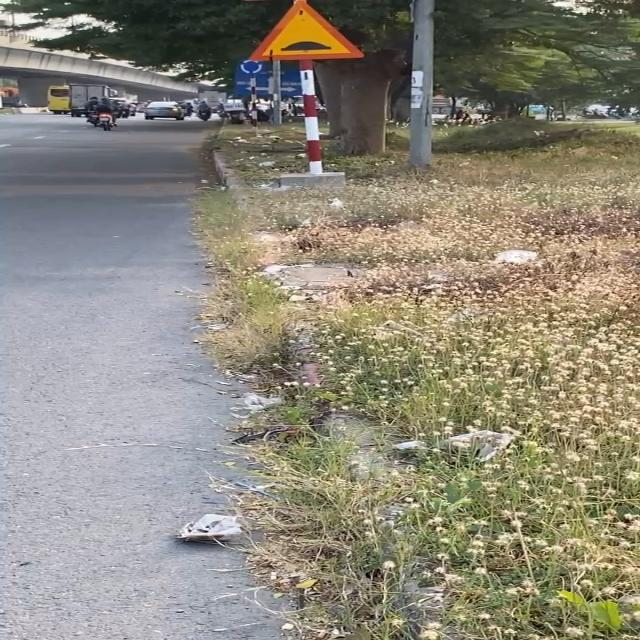221-duong-go-ghe: (248, 1, 364, 61)
303-noi-giao-nhau-chay-theo-vong-xuyen: (238, 59, 264, 75)
